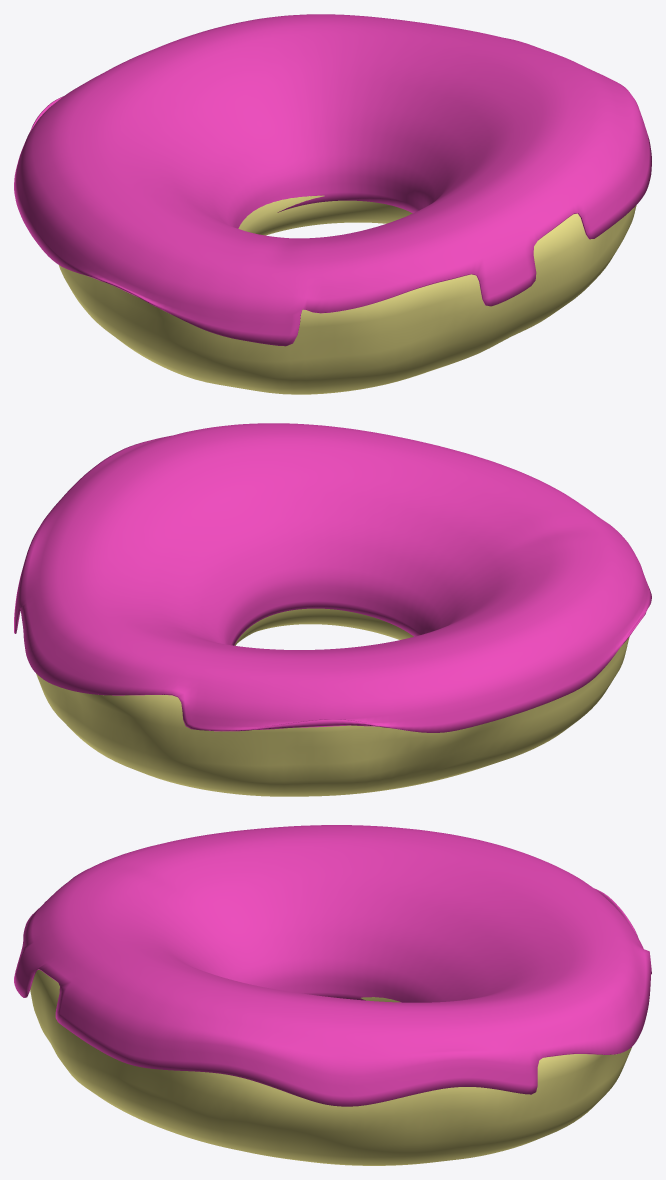
The model's file is donut.fbx.
3 renders of one model, top to bottom at view 1: azimuth 30°, elevation 25°; view 2: azimuth 150°, elevation 25°; view 3: azimuth 270°, elevation 25°, orthographic. The views are drawn at different scales.
Visible parts, largest first — view 1: Torus.002, Torus.001; view 2: Torus.002, Torus.001; view 3: Torus.002, Torus.001.
Part boxes in pixels (left/top/right/bottom): Torus.002: left=14, top=14, right=651, bottom=346; Torus.001: left=59, top=195, right=636, bottom=394; Torus.002: left=14, top=423, right=651, bottom=732; Torus.001: left=36, top=608, right=629, bottom=796; Torus.002: left=14, top=825, right=651, bottom=1106; Torus.001: left=30, top=969, right=631, bottom=1165.
Bounding box in the file's own units: 75.04 × 24.51 × 75.6.
